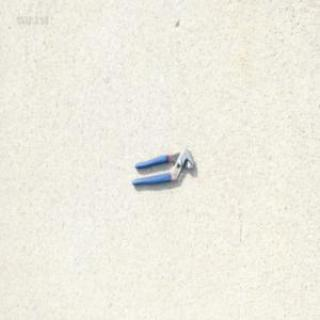Pliertrack_idkeyframe: (129, 144, 193, 185)
